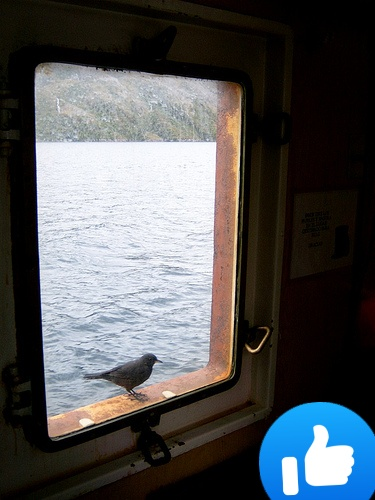like: (259, 402, 375, 500)
